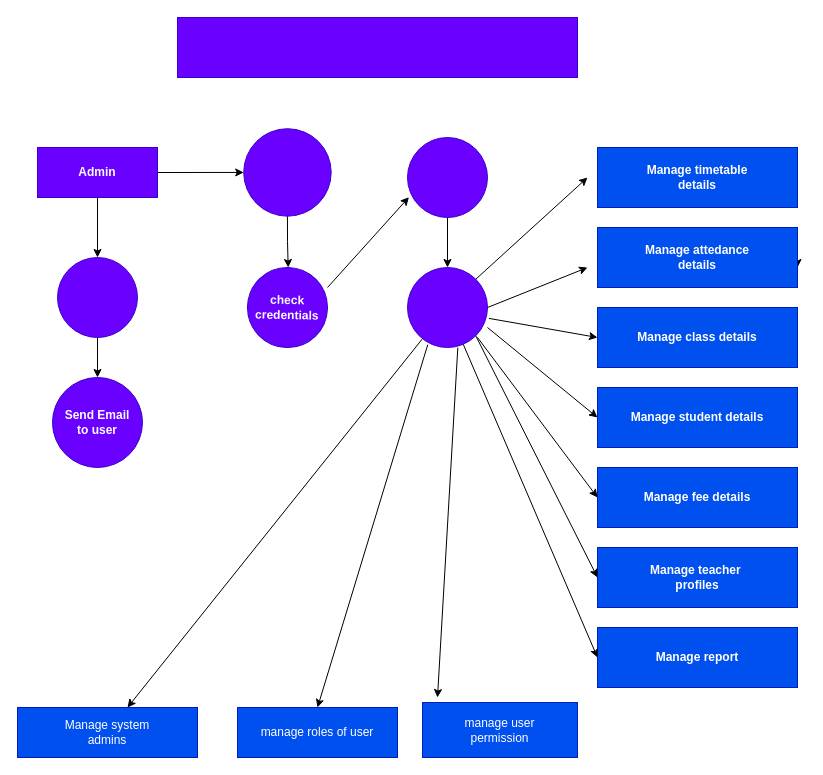
Image size: 823x775. Some labels were removed from this diagram. The centre of each missing label's shape, as x and y in pixels:
"Check roles of access" goes at (x=447, y=177).
"Forgot password" goes at (x=97, y=297).
"Login to system" goes at (x=287, y=172).
"manage modules" goes at (x=447, y=307).
"STUDENT INFORMATION SYSTEM" goes at (x=377, y=47).
